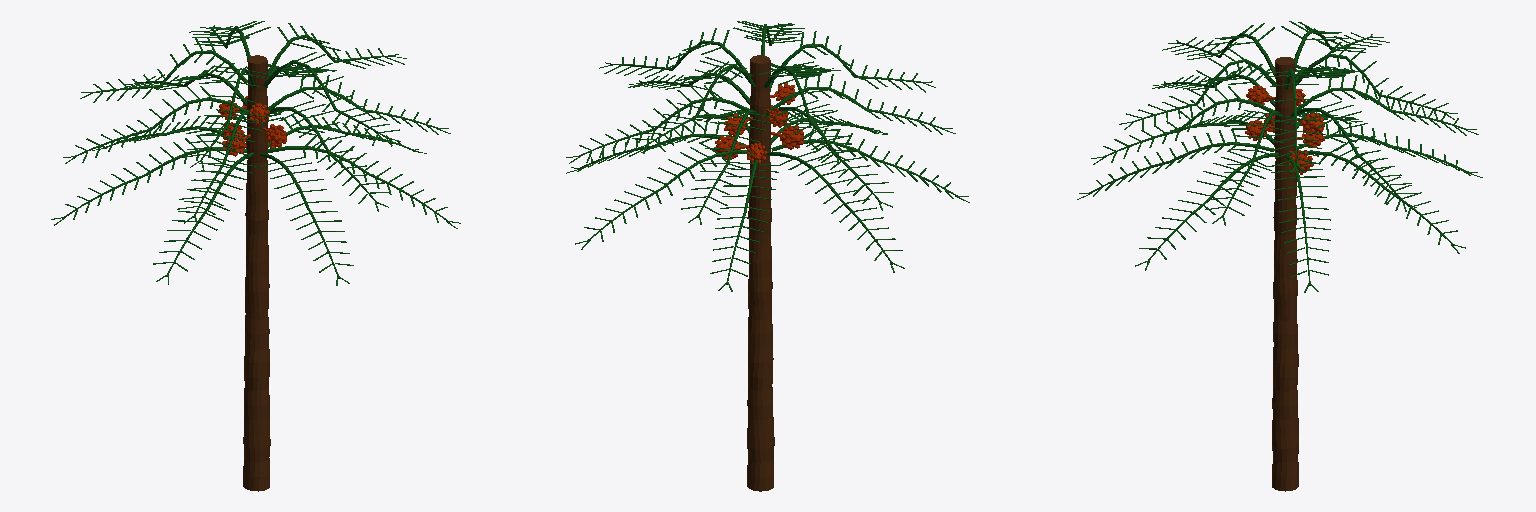
robot.urdf — oil_palm_tree_lowpoly:
<?xml version="1.0"?>
<robot name="oil_palm_tree_lowpoly">
  <material name="trunk_brown"><color rgba="0.33 0.20 0.10 1"/></material>
  <material name="frond_green"><color rgba="0.10 0.34 0.12 1"/></material>
  <material name="ffb_orange"><color rgba="0.62 0.20 0.035 1"/></material>
  <material name="target_red"><color rgba="0.9 0.05 0.05 1"/></material>
  <link name="tree_base"/>
  <link name="trunk_link">
    <visual><geometry><mesh filename="package://oil_palm_tree_description/meshes/trunk_lowpoly.stl"/></geometry><material name="trunk_brown"/></visual>
    <collision><geometry><mesh filename="package://oil_palm_tree_description/meshes/trunk_lowpoly.stl"/></geometry></collision>
    <inertial><origin xyz="0 0 6"/><mass value="900"/><inertia ixx="11000" ixy="0" ixz="0" iyy="11000" iyz="0" izz="45"/></inertial>
  </link>
  <joint name="tree_base_to_trunk" type="fixed"><parent link="tree_base"/><child link="trunk_link"/></joint>
  <link name="trunk_center_reference"/>
  <joint name="joint_trunk_center_reference" type="fixed"><parent link="trunk_link"/><child link="trunk_center_reference"/><origin xyz="0 0 6.000"/></joint>
  <link name="crown_base_reference"/>
  <joint name="joint_crown_base_reference" type="fixed"><parent link="trunk_link"/><child link="crown_base_reference"/><origin xyz="0 0 9.200"/></joint>
  <link name="crown_center_reference"/>
  <joint name="joint_crown_center_reference" type="fixed"><parent link="trunk_link"/><child link="crown_center_reference"/><origin xyz="0 0 10.600"/></joint>
  <link name="trunk_top_reference"/>
  <joint name="joint_trunk_top_reference" type="fixed"><parent link="trunk_link"/><child link="trunk_top_reference"/><origin xyz="0 0 12.000"/></joint>
  <link name="branch_01">
    <visual><geometry><mesh filename="package://oil_palm_tree_description/meshes/frond_lower.stl"/></geometry><material name="frond_green"/></visual>
    <collision><geometry><mesh filename="package://oil_palm_tree_description/meshes/frond_lower.stl"/></geometry></collision>
  </link>
  <joint name="branch_joint_01" type="fixed"><parent link="trunk_link"/><child link="branch_01"/><origin xyz="0.2686 0.0378 9.4500" rpy="0 0 0.139626"/></joint>
  <link name="branch_cut_target_01"/>
  <joint name="branch_cut_target_joint_01" type="fixed"><parent link="branch_01"/><child link="branch_cut_target_01"/><origin xyz="0.12 0 0"/></joint>
  <link name="branch_02">
    <visual><geometry><mesh filename="package://oil_palm_tree_description/meshes/frond_lower.stl"/></geometry><material name="frond_green"/></visual>
    <collision><geometry><mesh filename="package://oil_palm_tree_description/meshes/frond_lower.stl"/></geometry></collision>
  </link>
  <joint name="branch_joint_02" type="fixed"><parent link="trunk_link"/><child link="branch_02"/><origin xyz="0.1380 0.2335 9.4500" rpy="0 0 1.037224"/></joint>
  <link name="branch_cut_target_02"/>
  <joint name="branch_cut_target_joint_02" type="fixed"><parent link="branch_02"/><child link="branch_cut_target_02"/><origin xyz="0.12 0 0"/></joint>
  <link name="branch_03">
    <visual><geometry><mesh filename="package://oil_palm_tree_description/meshes/frond_lower.stl"/></geometry><material name="frond_green"/></visual>
    <collision><geometry><mesh filename="package://oil_palm_tree_description/meshes/frond_lower.stl"/></geometry></collision>
  </link>
  <joint name="branch_joint_03" type="fixed"><parent link="trunk_link"/><child link="branch_03"/><origin xyz="-0.0966 0.2535 9.4500" rpy="0 0 1.934822"/></joint>
  <link name="branch_cut_target_03"/>
  <joint name="branch_cut_target_joint_03" type="fixed"><parent link="branch_03"/><child link="branch_cut_target_03"/><origin xyz="0.12 0 0"/></joint>
  <link name="branch_04">
    <visual><geometry><mesh filename="package://oil_palm_tree_description/meshes/frond_lower.stl"/></geometry><material name="frond_green"/></visual>
    <collision><geometry><mesh filename="package://oil_palm_tree_description/meshes/frond_lower.stl"/></geometry></collision>
  </link>
  <joint name="branch_joint_04" type="fixed"><parent link="trunk_link"/><child link="branch_04"/><origin xyz="-0.2584 0.0825 9.4500" rpy="0 0 2.832420"/></joint>
  <link name="branch_cut_target_04"/>
  <joint name="branch_cut_target_joint_04" type="fixed"><parent link="branch_04"/><child link="branch_cut_target_04"/><origin xyz="0.12 0 0"/></joint>
  <link name="branch_05">
    <visual><geometry><mesh filename="package://oil_palm_tree_description/meshes/frond_lower.stl"/></geometry><material name="frond_green"/></visual>
    <collision><geometry><mesh filename="package://oil_palm_tree_description/meshes/frond_lower.stl"/></geometry></collision>
  </link>
  <joint name="branch_joint_05" type="fixed"><parent link="trunk_link"/><child link="branch_05"/><origin xyz="-0.2256 -0.1506 9.4500" rpy="0 0 3.730018"/></joint>
  <link name="branch_cut_target_05"/>
  <joint name="branch_cut_target_joint_05" type="fixed"><parent link="branch_05"/><child link="branch_cut_target_05"/><origin xyz="0.12 0 0"/></joint>
  <link name="branch_06">
    <visual><geometry><mesh filename="package://oil_palm_tree_description/meshes/frond_lower.stl"/></geometry><material name="frond_green"/></visual>
    <collision><geometry><mesh filename="package://oil_palm_tree_description/meshes/frond_lower.stl"/></geometry></collision>
  </link>
  <joint name="branch_joint_06" type="fixed"><parent link="trunk_link"/><child link="branch_06"/><origin xyz="-0.0230 -0.2703 9.4500" rpy="0 0 4.627616"/></joint>
  <link name="branch_cut_target_06"/>
  <joint name="branch_cut_target_joint_06" type="fixed"><parent link="branch_06"/><child link="branch_cut_target_06"/><origin xyz="0.12 0 0"/></joint>
  <link name="branch_07">
    <visual><geometry><mesh filename="package://oil_palm_tree_description/meshes/frond_lower.stl"/></geometry><material name="frond_green"/></visual>
    <collision><geometry><mesh filename="package://oil_palm_tree_description/meshes/frond_lower.stl"/></geometry></collision>
  </link>
  <joint name="branch_joint_07" type="fixed"><parent link="trunk_link"/><child link="branch_07"/><origin xyz="0.1970 -0.1865 9.4500" rpy="0 0 5.525214"/></joint>
  <link name="branch_cut_target_07"/>
  <joint name="branch_cut_target_joint_07" type="fixed"><parent link="branch_07"/><child link="branch_cut_target_07"/><origin xyz="0.12 0 0"/></joint>
  <link name="branch_08">
    <visual><geometry><mesh filename="package://oil_palm_tree_description/meshes/frond_mid.stl"/></geometry><material name="frond_green"/></visual>
    <collision><geometry><mesh filename="package://oil_palm_tree_description/meshes/frond_mid.stl"/></geometry></collision>
  </link>
  <joint name="branch_joint_08" type="fixed"><parent link="trunk_link"/><child link="branch_08"/><origin xyz="0.1978 0.1719 10.5500" rpy="0 0 0.715585"/></joint>
  <link name="branch_cut_target_08"/>
  <joint name="branch_cut_target_joint_08" type="fixed"><parent link="branch_08"/><child link="branch_cut_target_08"/><origin xyz="0.12 0 0"/></joint>
  <link name="branch_09">
    <visual><geometry><mesh filename="package://oil_palm_tree_description/meshes/frond_mid.stl"/></geometry><material name="frond_green"/></visual>
    <collision><geometry><mesh filename="package://oil_palm_tree_description/meshes/frond_mid.stl"/></geometry></collision>
  </link>
  <joint name="branch_joint_09" type="fixed"><parent link="trunk_link"/><child link="branch_09"/><origin xyz="-0.0500 0.2573 10.5500" rpy="0 0 1.762783"/></joint>
  <link name="branch_cut_target_09"/>
  <joint name="branch_cut_target_joint_09" type="fixed"><parent link="branch_09"/><child link="branch_cut_target_09"/><origin xyz="0.12 0 0"/></joint>
  <link name="branch_10">
    <visual><geometry><mesh filename="package://oil_palm_tree_description/meshes/frond_mid.stl"/></geometry><material name="frond_green"/></visual>
    <collision><geometry><mesh filename="package://oil_palm_tree_description/meshes/frond_mid.stl"/></geometry></collision>
  </link>
  <joint name="branch_joint_10" type="fixed"><parent link="trunk_link"/><child link="branch_10"/><origin xyz="-0.2478 0.0853 10.5500" rpy="0 0 2.809980"/></joint>
  <link name="branch_cut_target_10"/>
  <joint name="branch_cut_target_joint_10" type="fixed"><parent link="branch_10"/><child link="branch_cut_target_10"/><origin xyz="0.12 0 0"/></joint>
  <link name="branch_11">
    <visual><geometry><mesh filename="package://oil_palm_tree_description/meshes/frond_mid.stl"/></geometry><material name="frond_green"/></visual>
    <collision><geometry><mesh filename="package://oil_palm_tree_description/meshes/frond_mid.stl"/></geometry></collision>
  </link>
  <joint name="branch_joint_11" type="fixed"><parent link="trunk_link"/><child link="branch_11"/><origin xyz="-0.1978 -0.1719 10.5500" rpy="0 0 3.857178"/></joint>
  <link name="branch_cut_target_11"/>
  <joint name="branch_cut_target_joint_11" type="fixed"><parent link="branch_11"/><child link="branch_cut_target_11"/><origin xyz="0.12 0 0"/></joint>
  <link name="branch_12">
    <visual><geometry><mesh filename="package://oil_palm_tree_description/meshes/frond_mid.stl"/></geometry><material name="frond_green"/></visual>
    <collision><geometry><mesh filename="package://oil_palm_tree_description/meshes/frond_mid.stl"/></geometry></collision>
  </link>
  <joint name="branch_joint_12" type="fixed"><parent link="trunk_link"/><child link="branch_12"/><origin xyz="0.0500 -0.2573 10.5500" rpy="0 0 4.904375"/></joint>
  <link name="branch_cut_target_12"/>
  <joint name="branch_cut_target_joint_12" type="fixed"><parent link="branch_12"/><child link="branch_cut_target_12"/><origin xyz="0.12 0 0"/></joint>
  <link name="branch_13">
    <visual><geometry><mesh filename="package://oil_palm_tree_description/meshes/frond_mid.stl"/></geometry><material name="frond_green"/></visual>
    <collision><geometry><mesh filename="package://oil_palm_tree_description/meshes/frond_mid.stl"/></geometry></collision>
  </link>
  <joint name="branch_joint_13" type="fixed"><parent link="trunk_link"/><child link="branch_13"/><origin xyz="0.2478 -0.0853 10.5500" rpy="0 0 5.951573"/></joint>
  <link name="branch_cut_target_13"/>
  <joint name="branch_cut_target_joint_13" type="fixed"><parent link="branch_13"/><child link="branch_cut_target_13"/><origin xyz="0.12 0 0"/></joint>
  <link name="branch_14">
    <visual><geometry><mesh filename="package://oil_palm_tree_description/meshes/frond_upper.stl"/></geometry><material name="frond_green"/></visual>
    <collision><geometry><mesh filename="package://oil_palm_tree_description/meshes/frond_upper.stl"/></geometry></collision>
  </link>
  <joint name="branch_joint_14" type="fixed"><parent link="trunk_link"/><child link="branch_14"/><origin xyz="0.2544 0.0223 11.3500" rpy="0 0 0.087266"/></joint>
  <link name="branch_cut_target_14"/>
  <joint name="branch_cut_target_joint_14" type="fixed"><parent link="branch_14"/><child link="branch_cut_target_14"/><origin xyz="0.12 0 0"/></joint>
  <link name="branch_15">
    <visual><geometry><mesh filename="package://oil_palm_tree_description/meshes/frond_upper.stl"/></geometry><material name="frond_green"/></visual>
    <collision><geometry><mesh filename="package://oil_palm_tree_description/meshes/frond_upper.stl"/></geometry></collision>
  </link>
  <joint name="branch_joint_15" type="fixed"><parent link="trunk_link"/><child link="branch_15"/><origin xyz="0.0575 0.2489 11.3500" rpy="0 0 1.343904"/></joint>
  <link name="branch_cut_target_15"/>
  <joint name="branch_cut_target_joint_15" type="fixed"><parent link="branch_15"/><child link="branch_cut_target_15"/><origin xyz="0.12 0 0"/></joint>
  <link name="branch_16">
    <visual><geometry><mesh filename="package://oil_palm_tree_description/meshes/frond_upper.stl"/></geometry><material name="frond_green"/></visual>
    <collision><geometry><mesh filename="package://oil_palm_tree_description/meshes/frond_upper.stl"/></geometry></collision>
  </link>
  <joint name="branch_joint_16" type="fixed"><parent link="trunk_link"/><child link="branch_16"/><origin xyz="-0.2189 0.1315 11.3500" rpy="0 0 2.600541"/></joint>
  <link name="branch_cut_target_16"/>
  <joint name="branch_cut_target_joint_16" type="fixed"><parent link="branch_16"/><child link="branch_cut_target_16"/><origin xyz="0.12 0 0"/></joint>
  <link name="branch_17">
    <visual><geometry><mesh filename="package://oil_palm_tree_description/meshes/frond_upper.stl"/></geometry><material name="frond_green"/></visual>
    <collision><geometry><mesh filename="package://oil_palm_tree_description/meshes/frond_upper.stl"/></geometry></collision>
  </link>
  <joint name="branch_joint_17" type="fixed"><parent link="trunk_link"/><child link="branch_17"/><origin xyz="-0.1928 -0.1676 11.3500" rpy="0 0 3.857178"/></joint>
  <link name="branch_cut_target_17"/>
  <joint name="branch_cut_target_joint_17" type="fixed"><parent link="branch_17"/><child link="branch_cut_target_17"/><origin xyz="0.12 0 0"/></joint>
  <link name="branch_18">
    <visual><geometry><mesh filename="package://oil_palm_tree_description/meshes/frond_upper.stl"/></geometry><material name="frond_green"/></visual>
    <collision><geometry><mesh filename="package://oil_palm_tree_description/meshes/frond_upper.stl"/></geometry></collision>
  </link>
  <joint name="branch_joint_18" type="fixed"><parent link="trunk_link"/><child link="branch_18"/><origin xyz="0.0998 -0.2351 11.3500" rpy="0 0 5.113815"/></joint>
  <link name="branch_cut_target_18"/>
  <joint name="branch_cut_target_joint_18" type="fixed"><parent link="branch_18"/><child link="branch_cut_target_18"/><origin xyz="0.12 0 0"/></joint>
  <link name="ffb_01">
    <visual><geometry><mesh filename="package://oil_palm_tree_description/meshes/ffb_lowpoly.stl" scale="1.100 1.100 1.100"/></geometry><material name="ffb_orange"/></visual>
    <collision><geometry><mesh filename="package://oil_palm_tree_description/meshes/ffb_lowpoly.stl" scale="1.100 1.100 1.100"/></geometry></collision>
  </link>
  <joint name="ffb_joint_01" type="fixed"><parent link="trunk_link"/><child link="ffb_01"/><origin xyz="0.2388 0.1270 9.5500" rpy="0 0 0.488692"/></joint>
  <link name="ffb_cut_target_01"/>
  <joint name="ffb_cut_target_joint_01" type="fixed"><parent link="ffb_01"/><child link="ffb_cut_target_01"/><origin xyz="0.08 0 0"/></joint>
  <link name="ffb_02">
    <visual><geometry><mesh filename="package://oil_palm_tree_description/meshes/ffb_lowpoly.stl" scale="0.950 0.950 0.950"/></geometry><material name="ffb_orange"/></visual>
    <collision><geometry><mesh filename="package://oil_palm_tree_description/meshes/ffb_lowpoly.stl" scale="0.950 0.950 0.950"/></geometry></collision>
  </link>
  <joint name="ffb_joint_02" type="fixed"><parent link="trunk_link"/><child link="ffb_02"/><origin xyz="-0.1007 0.2492 9.7500" rpy="0 0 1.954769"/></joint>
  <link name="ffb_cut_target_02"/>
  <joint name="ffb_cut_target_joint_02" type="fixed"><parent link="ffb_02"/><child link="ffb_cut_target_02"/><origin xyz="0.08 0 0"/></joint>
  <link name="ffb_03">
    <visual><geometry><mesh filename="package://oil_palm_tree_description/meshes/ffb_lowpoly.stl" scale="1.050 1.050 1.050"/></geometry><material name="ffb_orange"/></visual>
    <collision><geometry><mesh filename="package://oil_palm_tree_description/meshes/ffb_lowpoly.stl" scale="1.050 1.050 1.050"/></geometry></collision>
  </link>
  <joint name="ffb_joint_03" type="fixed"><parent link="trunk_link"/><child link="ffb_03"/><origin xyz="-0.2567 -0.0736 9.9500" rpy="0 0 3.420845"/></joint>
  <link name="ffb_cut_target_03"/>
  <joint name="ffb_cut_target_joint_03" type="fixed"><parent link="ffb_03"/><child link="ffb_cut_target_03"/><origin xyz="0.08 0 0"/></joint>
  <link name="ffb_04">
    <visual><geometry><mesh filename="package://oil_palm_tree_description/meshes/ffb_lowpoly.stl" scale="0.920 0.920 0.920"/></geometry><material name="ffb_orange"/></visual>
    <collision><geometry><mesh filename="package://oil_palm_tree_description/meshes/ffb_lowpoly.stl" scale="0.920 0.920 0.920"/></geometry></collision>
  </link>
  <joint name="ffb_joint_04" type="fixed"><parent link="trunk_link"/><child link="ffb_04"/><origin xyz="0.0552 -0.2596 10.1500" rpy="0 0 4.921828"/></joint>
  <link name="ffb_cut_target_04"/>
  <joint name="ffb_cut_target_joint_04" type="fixed"><parent link="ffb_04"/><child link="ffb_cut_target_04"/><origin xyz="0.08 0 0"/></joint>
  <link name="ffb_05">
    <visual><geometry><mesh filename="package://oil_palm_tree_description/meshes/ffb_lowpoly.stl" scale="1.000 1.000 1.000"/></geometry><material name="ffb_orange"/></visual>
    <collision><geometry><mesh filename="package://oil_palm_tree_description/meshes/ffb_lowpoly.stl" scale="1.000 1.000 1.000"/></geometry></collision>
  </link>
  <joint name="ffb_joint_05" type="fixed"><parent link="trunk_link"/><child link="ffb_05"/><origin xyz="0.1112 0.2385 10.4200" rpy="0 0 1.134464"/></joint>
  <link name="ffb_cut_target_05"/>
  <joint name="ffb_cut_target_joint_05" type="fixed"><parent link="ffb_05"/><child link="ffb_cut_target_05"/><origin xyz="0.08 0 0"/></joint>
  <link name="ffb_06">
    <visual><geometry><mesh filename="package://oil_palm_tree_description/meshes/ffb_lowpoly.stl" scale="0.880 0.880 0.880"/></geometry><material name="ffb_orange"/></visual>
    <collision><geometry><mesh filename="package://oil_palm_tree_description/meshes/ffb_lowpoly.stl" scale="0.880 0.880 0.880"/></geometry></collision>
  </link>
  <joint name="ffb_joint_06" type="fixed"><parent link="trunk_link"/><child link="ffb_06"/><origin xyz="-0.2420 0.0978 10.6800" rpy="0 0 2.757620"/></joint>
  <link name="ffb_cut_target_06"/>
  <joint name="ffb_cut_target_joint_06" type="fixed"><parent link="ffb_06"/><child link="ffb_cut_target_06"/><origin xyz="0.08 0 0"/></joint>
  <link name="ffb_07">
    <visual><geometry><mesh filename="package://oil_palm_tree_description/meshes/ffb_lowpoly.stl" scale="0.960 0.960 0.960"/></geometry><material name="ffb_orange"/></visual>
    <collision><geometry><mesh filename="package://oil_palm_tree_description/meshes/ffb_lowpoly.stl" scale="0.960 0.960 0.960"/></geometry></collision>
  </link>
  <joint name="ffb_joint_07" type="fixed"><parent link="trunk_link"/><child link="ffb_07"/><origin xyz="-0.1137 -0.2331 10.8800" rpy="0 0 4.258603"/></joint>
  <link name="ffb_cut_target_07"/>
  <joint name="ffb_cut_target_joint_07" type="fixed"><parent link="ffb_07"/><child link="ffb_cut_target_07"/><origin xyz="0.08 0 0"/></joint>
</robot>

--- Render facts (derived) ---
3 views of the same robot in one strip: view 1: azimuth 30°, elevation 25°; view 2: azimuth 150°, elevation 25°; view 3: azimuth 270°, elevation 25° (orthographic).
Model oil_palm_tree_lowpoly with 56 links and 55 joints (55 fixed), rooted at tree_base, posed every joint at zero.
Visible links, largest first — view 1: trunk_link, branch_06, branch_12, branch_07, branch_18, branch_10, branch_05, branch_17, branch_04, branch_16, branch_14, branch_13 (+5 smaller); view 2: trunk_link, branch_04, branch_03, branch_02, branch_09, branch_16, branch_15, branch_08, branch_11, branch_05, branch_10, branch_17 (+4 smaller); view 3: trunk_link, branch_06, branch_08, branch_07, branch_01, branch_12, branch_13, branch_18, branch_15, branch_02, branch_14, branch_09 (+4 smaller).
Boxes of the visible links, bbox=[...] form: trunk_link: bbox=[243, 55, 270, 491]; branch_06: bbox=[258, 152, 353, 285]; branch_12: bbox=[266, 100, 389, 211]; branch_07: bbox=[267, 135, 460, 228]; branch_18: bbox=[263, 52, 400, 146]; branch_10: bbox=[63, 86, 247, 163]; branch_05: bbox=[153, 152, 257, 284]; branch_17: bbox=[181, 66, 272, 169]; branch_04: bbox=[51, 136, 246, 225]; branch_16: bbox=[80, 38, 247, 102]; branch_14: bbox=[267, 23, 406, 79]; branch_13: bbox=[268, 73, 450, 134]; trunk_link: bbox=[747, 55, 774, 491]; branch_04: bbox=[767, 150, 904, 272]; branch_03: bbox=[710, 159, 780, 291]; branch_02: bbox=[575, 143, 750, 249]; branch_09: bbox=[681, 109, 771, 224]; branch_16: bbox=[759, 61, 858, 164]; branch_15: bbox=[632, 57, 755, 153]; branch_08: bbox=[566, 85, 750, 163]; branch_11: bbox=[770, 73, 955, 134]; branch_05: bbox=[771, 127, 969, 202]; branch_10: bbox=[766, 100, 893, 210]; branch_17: bbox=[771, 31, 935, 92]; trunk_link: bbox=[1272, 57, 1298, 491]; branch_06: bbox=[1077, 130, 1273, 199]; branch_08: bbox=[1291, 101, 1417, 211]; branch_07: bbox=[1135, 151, 1278, 270]; branch_01: bbox=[1269, 155, 1330, 292]; branch_12: bbox=[1091, 86, 1274, 164]; branch_13: bbox=[1205, 110, 1293, 225]; branch_18: bbox=[1119, 48, 1276, 131]; branch_15: bbox=[1295, 42, 1457, 121]; branch_02: bbox=[1295, 143, 1465, 253]; branch_14: bbox=[1260, 69, 1325, 173]; branch_09: bbox=[1297, 74, 1478, 135].
Size in the robot's own frame: 10.42 by 10.38 by 12.3 metres.
26 mesh visuals loaded from 5 distinct referenced files (5 binary STL).
